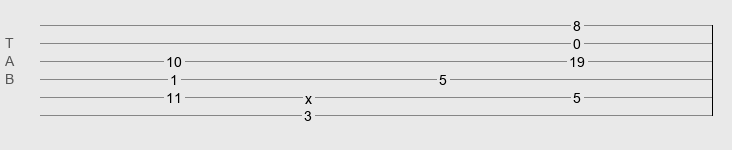0: (573, 36, 581, 46)
1: (170, 72, 178, 82)
10: (166, 54, 182, 64)
11: (166, 90, 182, 100)
19: (569, 54, 585, 64)
3: (304, 108, 312, 118)
5: (439, 72, 447, 82), (573, 90, 581, 100)
8: (573, 18, 581, 28)
x: (305, 91, 312, 99)
